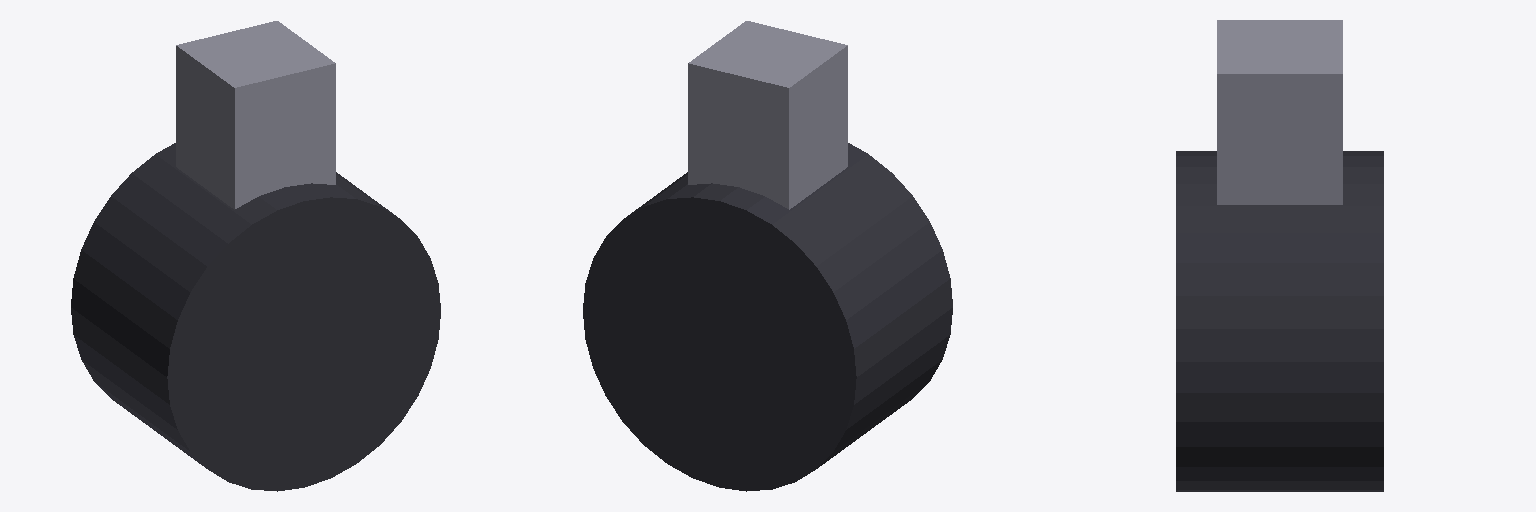
The robot description file, URDF, robot "wh12_testbed":
<?xml version="1.0"?>
<robot name="wh12_testbed">
  <link name="carriage">
    <inertial>
      <origin xyz="0 0 0" rpy="0 0 0"/>
      <mass value="3.1549"/>
      <inertia ixx="0.05" iyy="0.05" izz="0.05" ixy="0" ixz="0" iyz="0"/>
    </inertial>
    <visual>
      <origin xyz="0 0 0.12" rpy="0 0 0"/>
      <geometry><box size="0.10 0.10 0.24"/></geometry>
      <material name="grey"><color rgba="0.6 0.6 0.65 1"/></material>
    </visual>
  </link>
  <link name="wheel">
    <inertial>
      <origin xyz="0 0 0" rpy="0 0 0"/>
      <mass value="5.0000"/>
      <inertia ixx="0.022823" iyy="0.045563" izz="0.022823" ixy="0" ixz="0" iyz="0"/>
    </inertial>
    <visual>
      <origin xyz="0 0 0" rpy="1.5707963 0 0"/>
      <geometry><cylinder radius="0.135" length="0.165"/></geometry>
      <material name="dark"><color rgba="0.25 0.25 0.28 1"/></material>
    </visual>
  </link>
  <joint name="wheel_joint" type="revolute">
    <origin xyz="0 0 0" rpy="0 0 0"/>
    <parent link="carriage"/>
    <child link="wheel"/>
    <axis xyz="0 1 0"/>
    <limit effort="100000" velocity="1000" lower="-1000000" upper="1000000"/>
    <dynamics damping="0" friction="0"/>
  </joint>
</robot>

--- Render facts (derived) ---
Views: 3 orthographic renders of the robot side by side, from view 1: azimuth 30°, elevation 25°; view 2: azimuth 150°, elevation 25°; view 3: azimuth 270°, elevation 25°.
Model wh12_testbed with 2 links and 1 joints (1 revolute), rooted at carriage, posed every joint at zero.
Links seen in each view (by area): view 1: wheel, carriage; view 2: wheel, carriage; view 3: wheel, carriage.
Boxes of the visible links, x1,y1,x2,y2 form: wheel: (71, 143, 440, 491); carriage: (176, 21, 335, 209); wheel: (583, 143, 952, 491); carriage: (688, 21, 847, 209); wheel: (1176, 151, 1383, 491); carriage: (1217, 20, 1342, 204).
Size in the robot's own frame: 0.27 by 0.165 by 0.375 metres.
Geometry: primitives only (box / cylinder / sphere), no mesh files.
